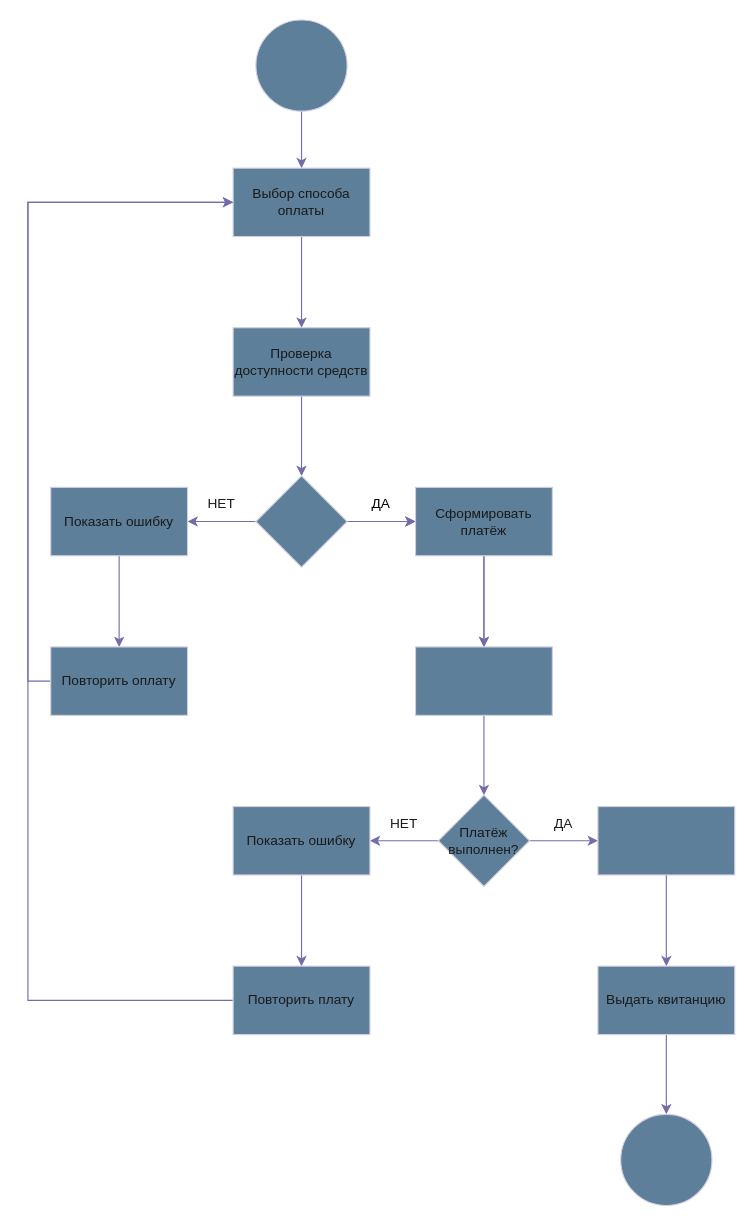
The diagram is 755 pixels wide and 1226 high, and some of its shapes have lost their labels. Each missing label, with the centre of its shape:
Конец: point (666, 1159)
Передать платёж в банк: point (483, 680)
Сохранить операцию: point (666, 840)
Средств достаточно?: point (301, 521)
Старт: point (301, 65)
